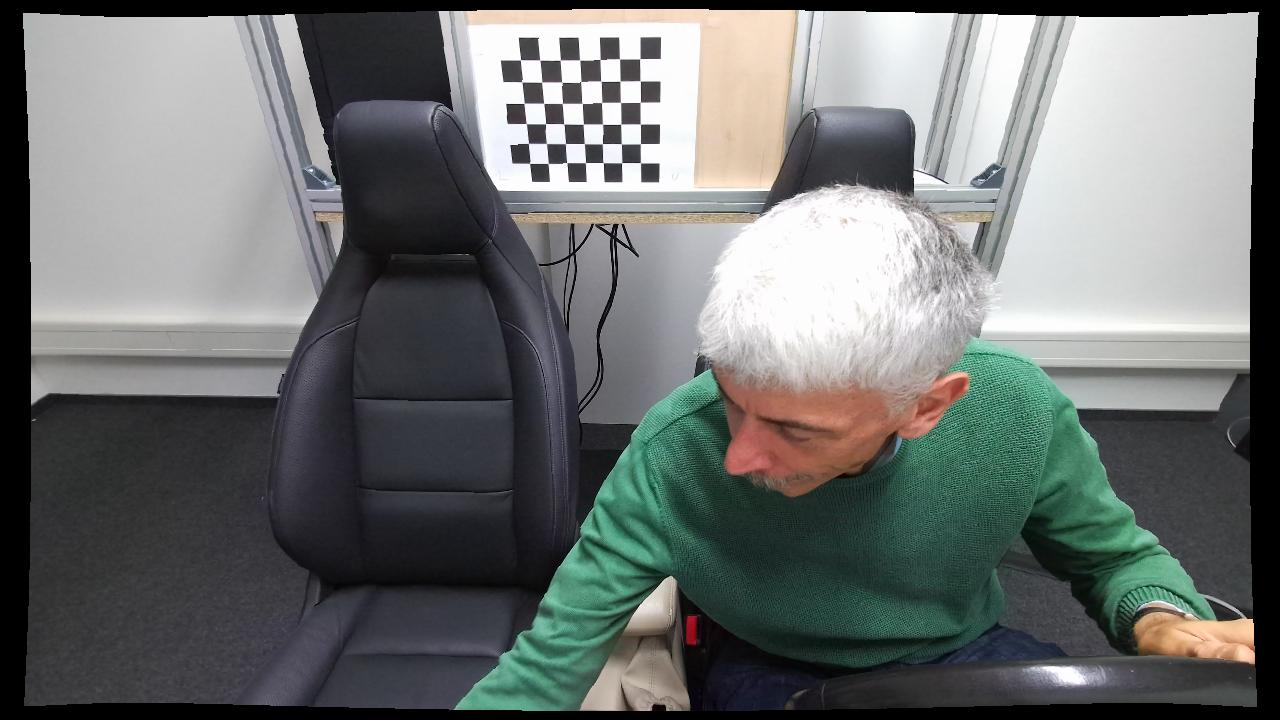Distracted: (453, 188, 1152, 712)
